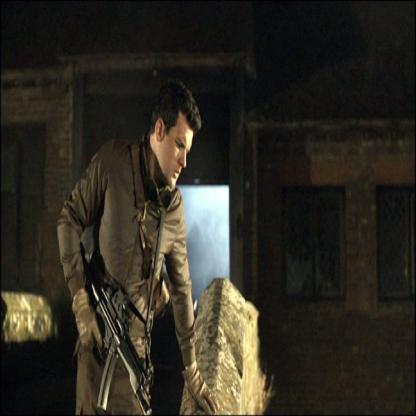Guns: (73, 237, 156, 415)
